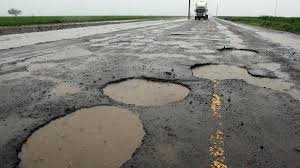pothole: (10, 105, 157, 167), (93, 72, 195, 106), (188, 60, 287, 89), (213, 42, 258, 55)
